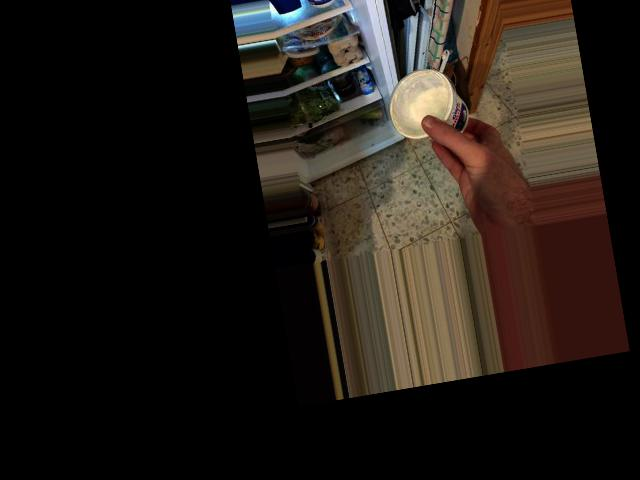cotage: (382, 58, 476, 148)
